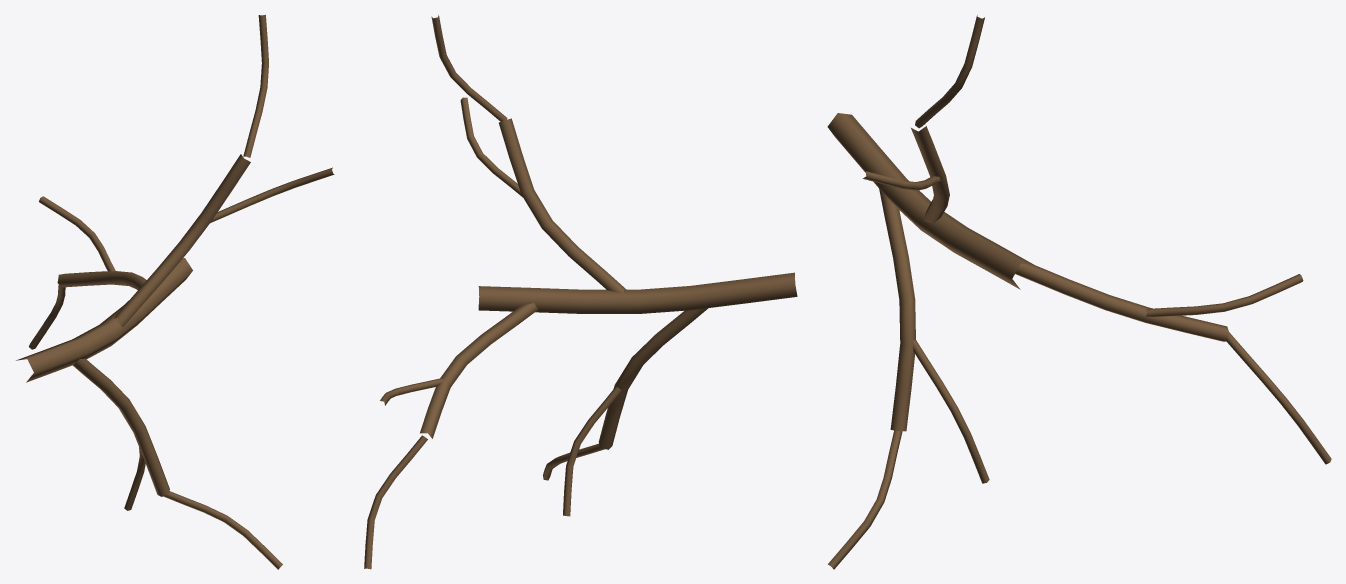
Rendered from forest-twigs.glb.
3 renders of one model, left to right at view 1: azimuth 30°, elevation 25°; view 2: azimuth 150°, elevation 25°; view 3: azimuth 270°, elevation 25°, orthographic. The views are drawn at different scales.
Parts seen in each view (by area): view 1: part_00033; view 2: part_00033; view 3: part_00033.
Part boxes in pixels (x1=…): part_00033: x1=16, y1=14, x2=334, y2=569; part_00033: x1=364, y1=15, x2=797, y2=569; part_00033: x1=827, y1=15, x2=1331, y2=569.
Size of the model in its own units: 0.3661 by 0.5304 by 0.4171.
